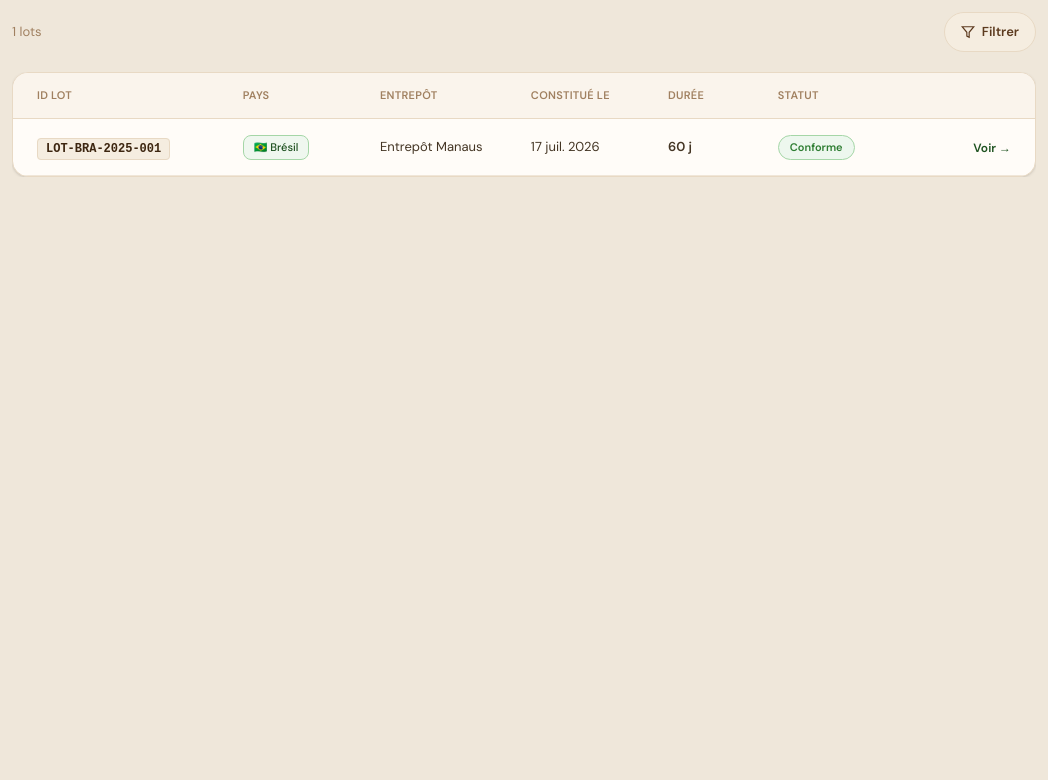
Test: LotsPage container › fetches the detail (stays + conditions) when a lot is opened
Click the text "LOT-BRA-2025-001". click: coordinates (104, 149)
box: [37, 138, 170, 160]
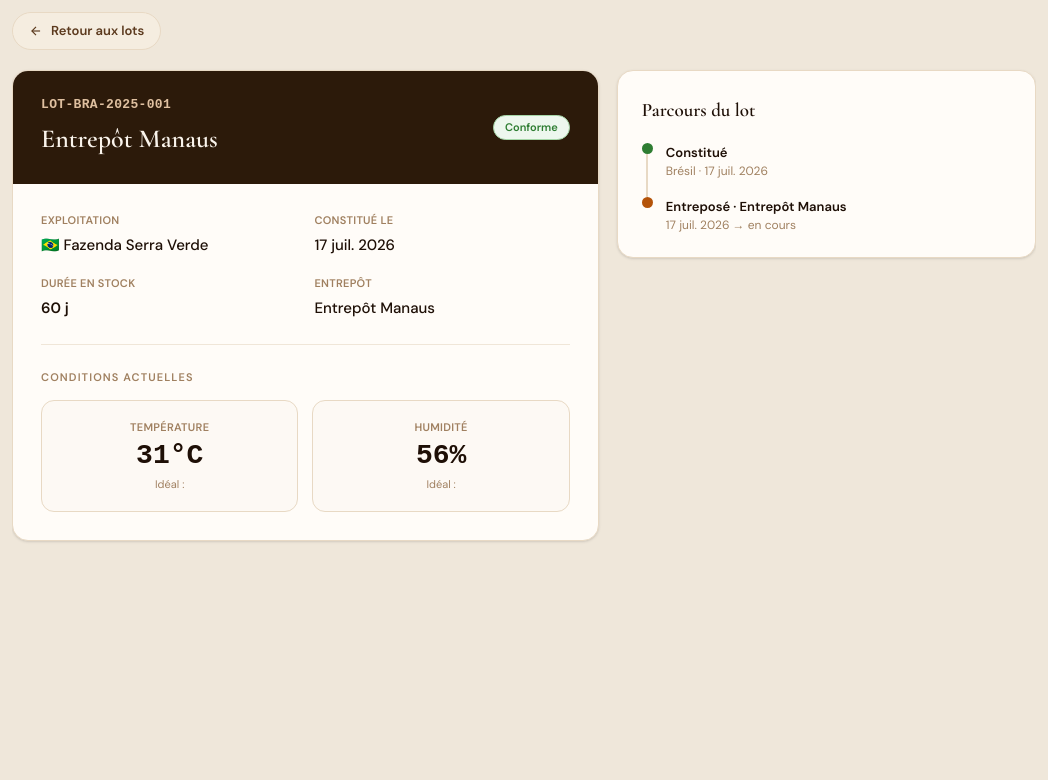
Result: the text "Entreposé · Entrepôt Manaus" is shown at [666, 197, 846, 217]
Result: the text "31°C" is shown at [136, 440, 203, 471]
Result: the text "56%" is shown at [416, 440, 466, 471]
